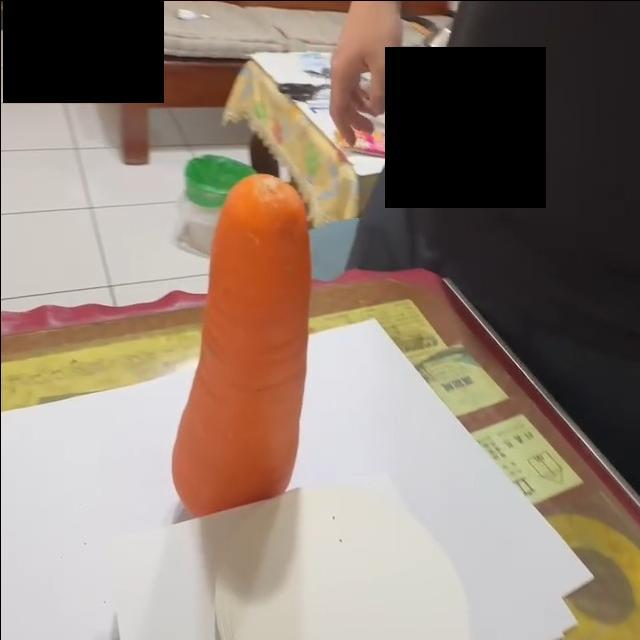carrot: (174, 174, 316, 512)
